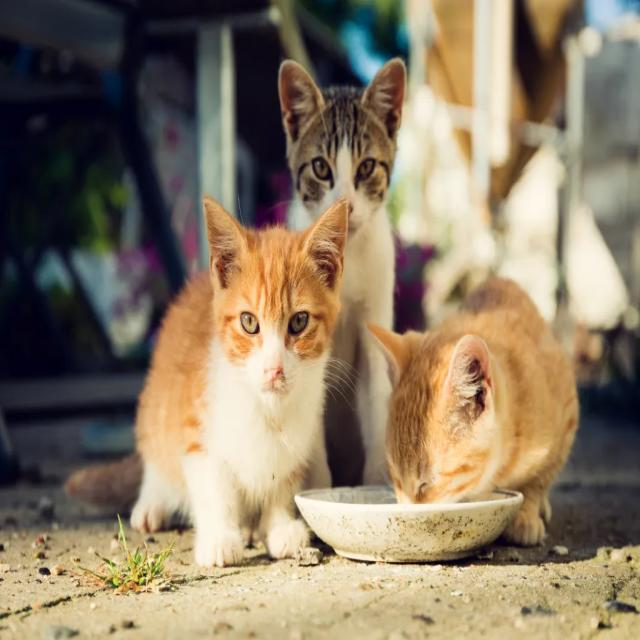cat: (131, 197, 348, 566), (369, 276, 579, 545), (279, 58, 405, 484), (305, 430, 331, 488)
